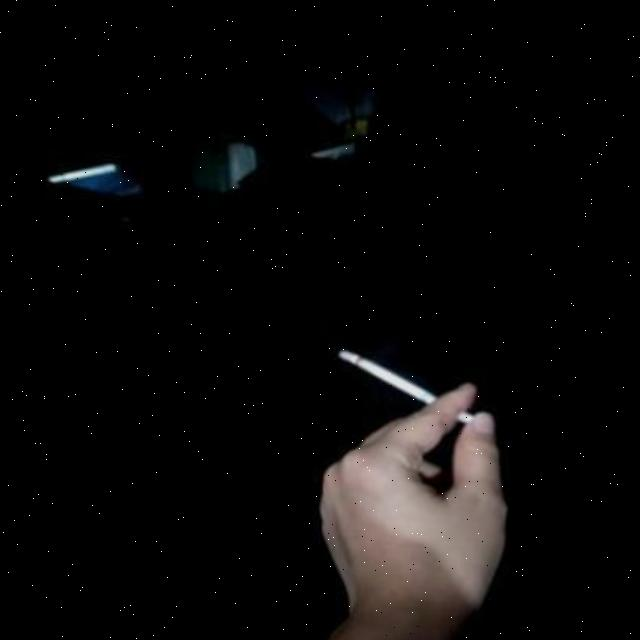cigarette: (335, 342, 480, 422)
